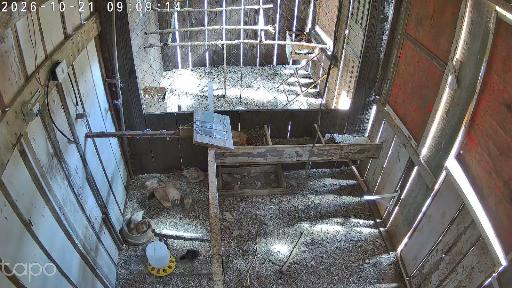frango: (175, 166, 205, 184)
galinha: (146, 182, 180, 211), (231, 128, 253, 147)
pintinho: (178, 249, 200, 264), (130, 210, 142, 229), (137, 219, 150, 234), (184, 192, 192, 210), (144, 178, 158, 187)
